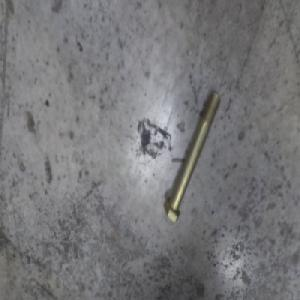Bolt: (162, 88, 218, 220)
